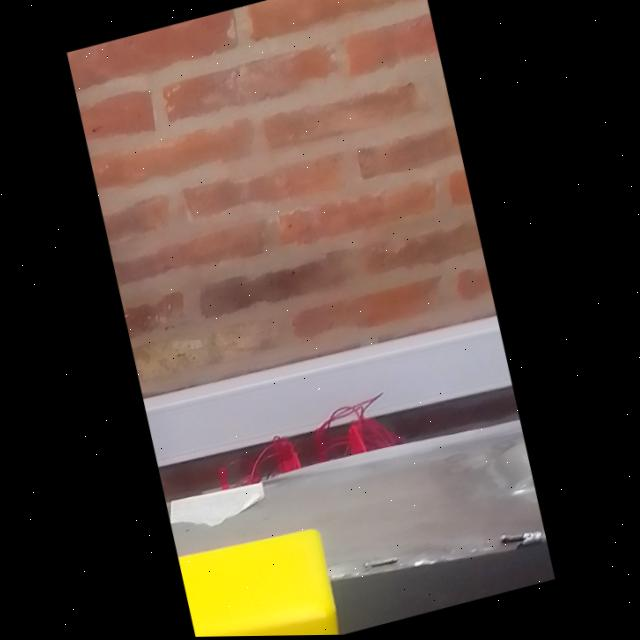yellowBox: (175, 502, 356, 638)
